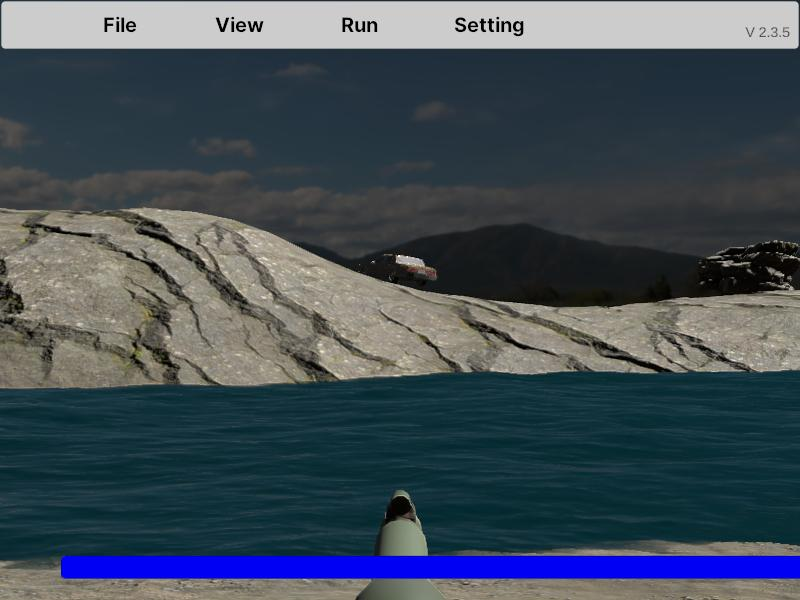car: (354, 252, 437, 289)
